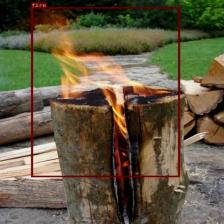fire: (31, 7, 179, 177)
